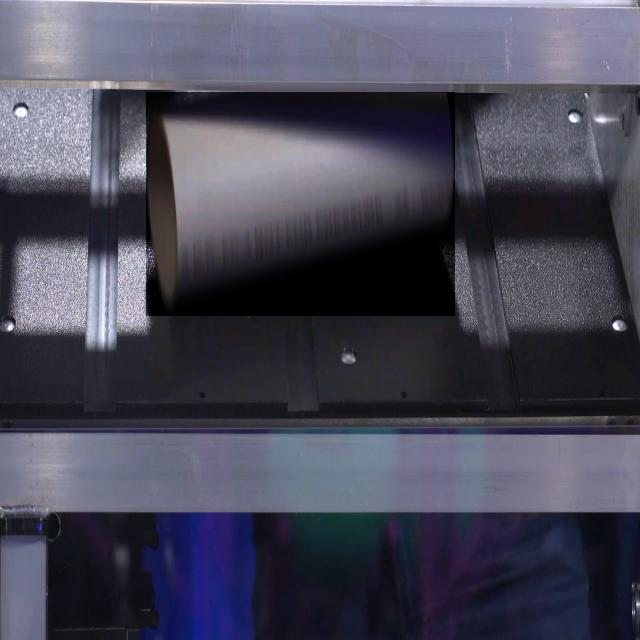Coral: (146, 92, 455, 316)
